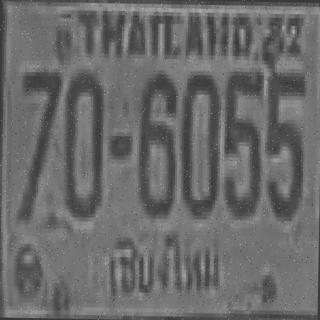N00: (62, 69, 103, 214), (178, 71, 219, 216)
N05: (221, 67, 262, 216), (264, 68, 304, 217)
N06: (136, 70, 174, 215)
N07: (18, 66, 59, 219)
P11: (104, 221, 228, 304)
